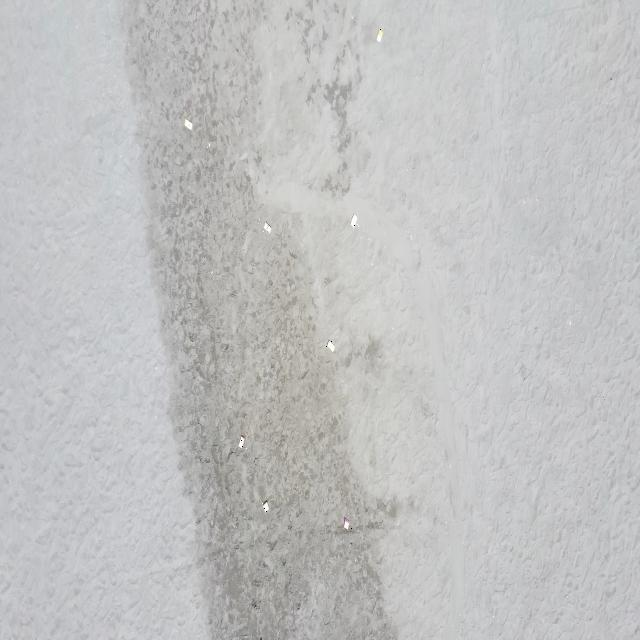Garbage: (376, 27, 383, 42), (343, 515, 350, 529), (263, 221, 271, 232), (183, 119, 192, 128), (261, 500, 267, 512), (326, 340, 332, 352), (351, 214, 356, 227), (238, 435, 243, 447)
